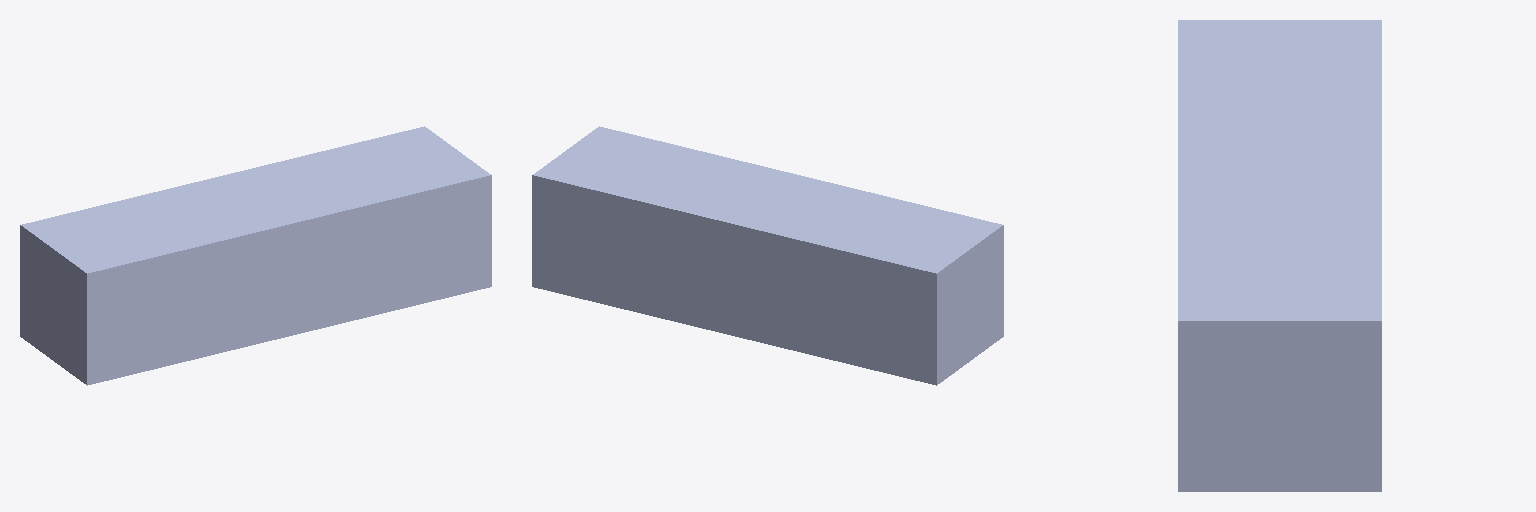
robot.urdf — house_model:
<?xml version="1.0" encoding="utf-8"?>
<!-- This URDF was automatically created by SolidWorks to URDF Exporter! Originally created by [author] ([email redacted]) 
     Commit Version: 1.6.0-1-g15f4949  Build Version: 1.6.7594.29634
     For more information, please see http://wiki.ros.org/sw_urdf_exporter -->
<robot
  name="house_model">
  <link
    name="base_link">
    <inertial>
      <origin
        xyz="4.05 -1.62 1.5"
        rpy="0 0 0" />
      <mass
        value="78732" />
      <inertia
        ixx="127923.7536"
        ixy="-7.65240848465964E-11"
        ixz="-2.25214918928838E-28"
        iyy="489516.21"
        iyz="8.94484486479993E-13"
        izz="499341.9636" />
    </inertial>
    <visual>
      <origin
        xyz="0 0 0"
        rpy="0 0 0" />
      <geometry>
        <mesh
          filename="package://house_model/meshes/base_link.STL" scale ="1.4 1 1"/>
      </geometry>
      <material
        name="">
        <color
          rgba="0.792156862745098 0.819607843137255 0.933333333333333 1" />
      </material>
    </visual>
    <collision>
      <origin
        xyz="0 0 0"
        rpy="0 0 0" />
      <geometry>
        <mesh
          filename="package://house_model/meshes/base_link.STL" scale ="1.4 1 1" />
      </geometry>
    </collision>
  </link>

          <gazebo reference="base_link">
		 <material>stair</material>  
          </gazebo>


<gazebo>
    <static>true</static>
</gazebo>


</robot>

--- Render facts (derived) ---
3 views of the same robot in one strip: view 1: azimuth 30°, elevation 25°; view 2: azimuth 150°, elevation 25°; view 3: azimuth 270°, elevation 25° (orthographic).
Model house_model with 1 links and 0 joints (none), rooted at base_link, posed all joints at 0.
Visible links, largest first — view 1: base_link; view 2: base_link; view 3: base_link.
Link boxes in pixels (bbox=[...]): base_link: bbox=[20, 126, 491, 385]; base_link: bbox=[532, 126, 1003, 385]; base_link: bbox=[1178, 20, 1381, 491].
Size in the robot's own frame: 11.34 by 3.24 by 3 metres.
1 mesh visuals loaded from 1 distinct referenced files (1 binary STL).